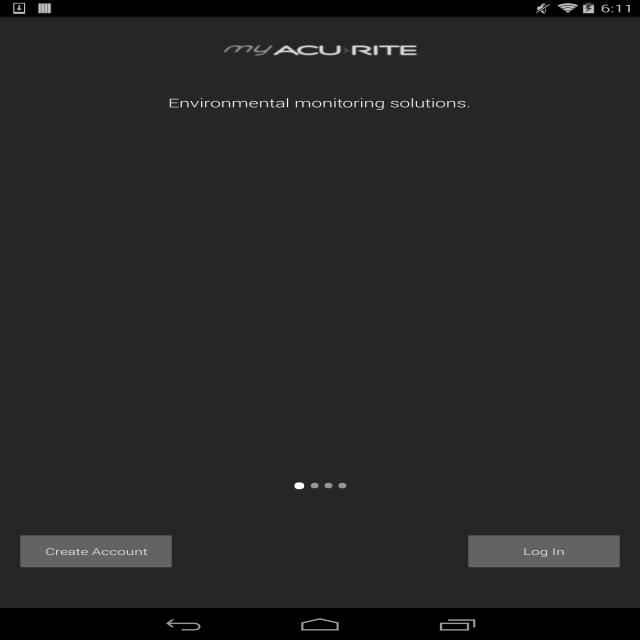Button: (458, 528, 630, 573), (12, 530, 179, 571)
TextView: (159, 94, 471, 118), (212, 38, 428, 60)
